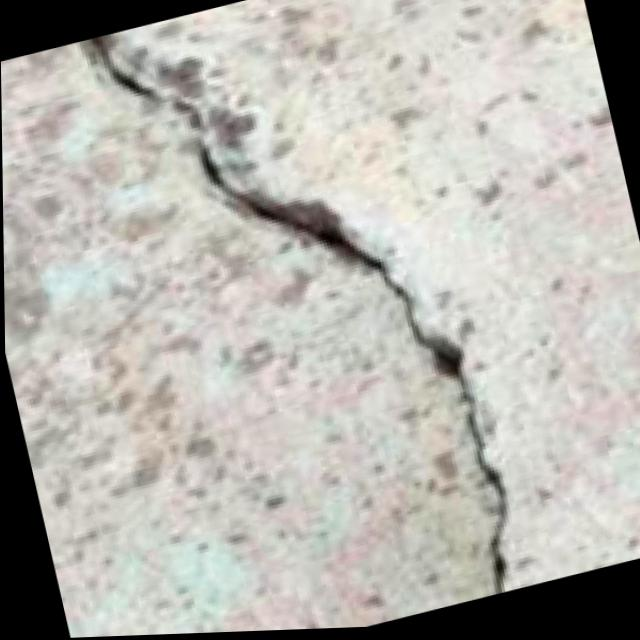Crack: (75, 0, 561, 638)
